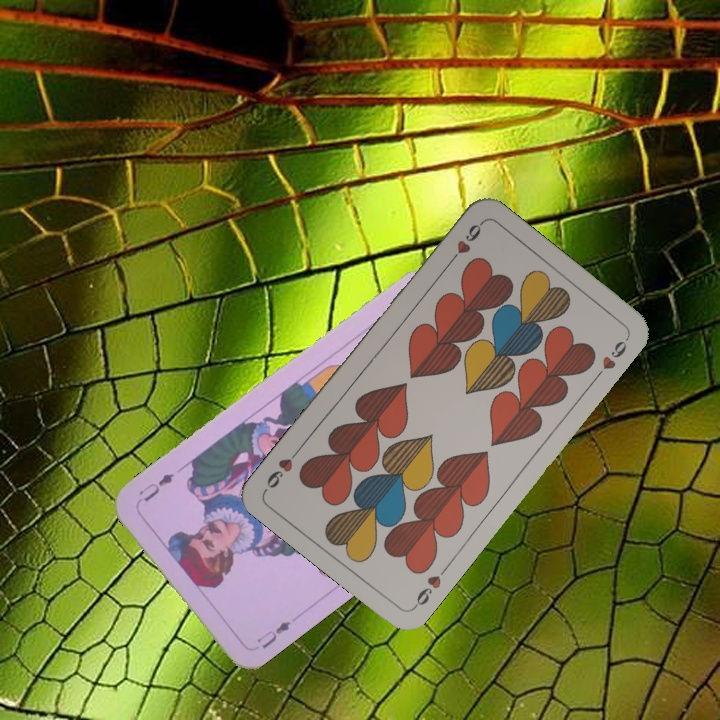EU: (252, 616, 293, 651)
H9: (443, 218, 486, 268), (409, 562, 451, 612)
